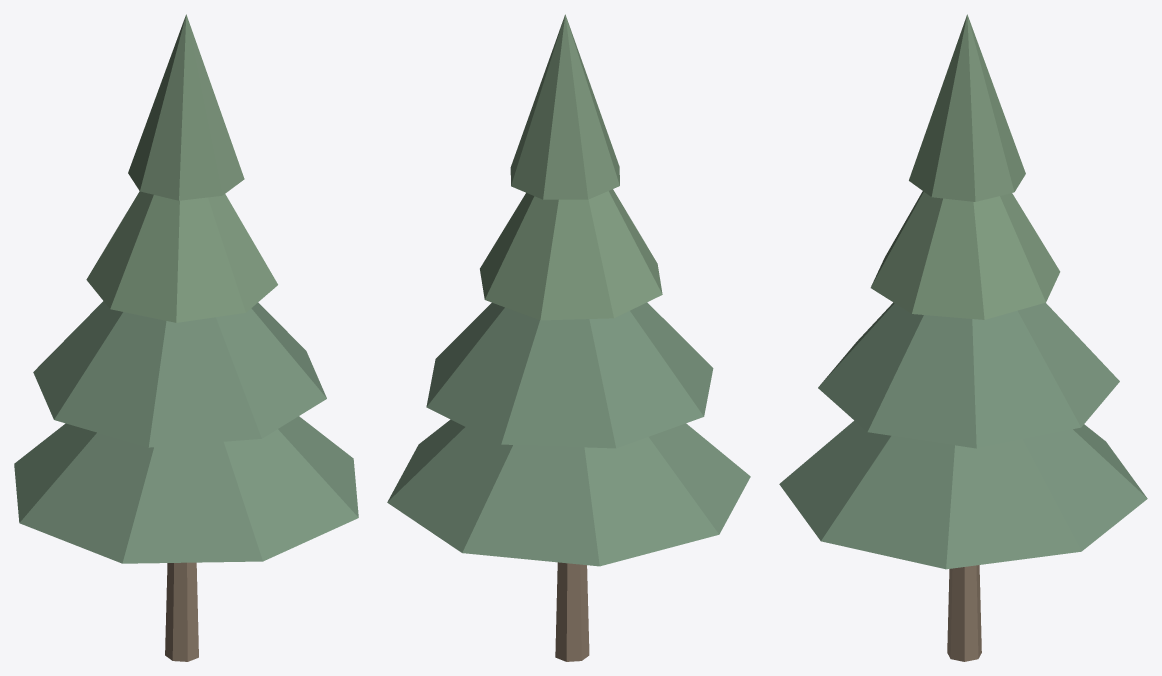
File: node_tree_forest_2.glb
3 renders of one model, left to right at view 1: azimuth 30°, elevation 25°; view 2: azimuth 150°, elevation 25°; view 3: azimuth 270°, elevation 25°, orthographic.
Parts seen in each view (by area): view 1: node_tree_forest_2; view 2: node_tree_forest_2; view 3: node_tree_forest_2.
Part boxes in pixels (x1=…): node_tree_forest_2: x1=14, y1=14, x2=358, y2=661; node_tree_forest_2: x1=387, y1=14, x2=750, y2=661; node_tree_forest_2: x1=779, y1=14, x2=1147, y2=661.
Size of the model in its own units: 4.57 by 8.79 by 4.57.
